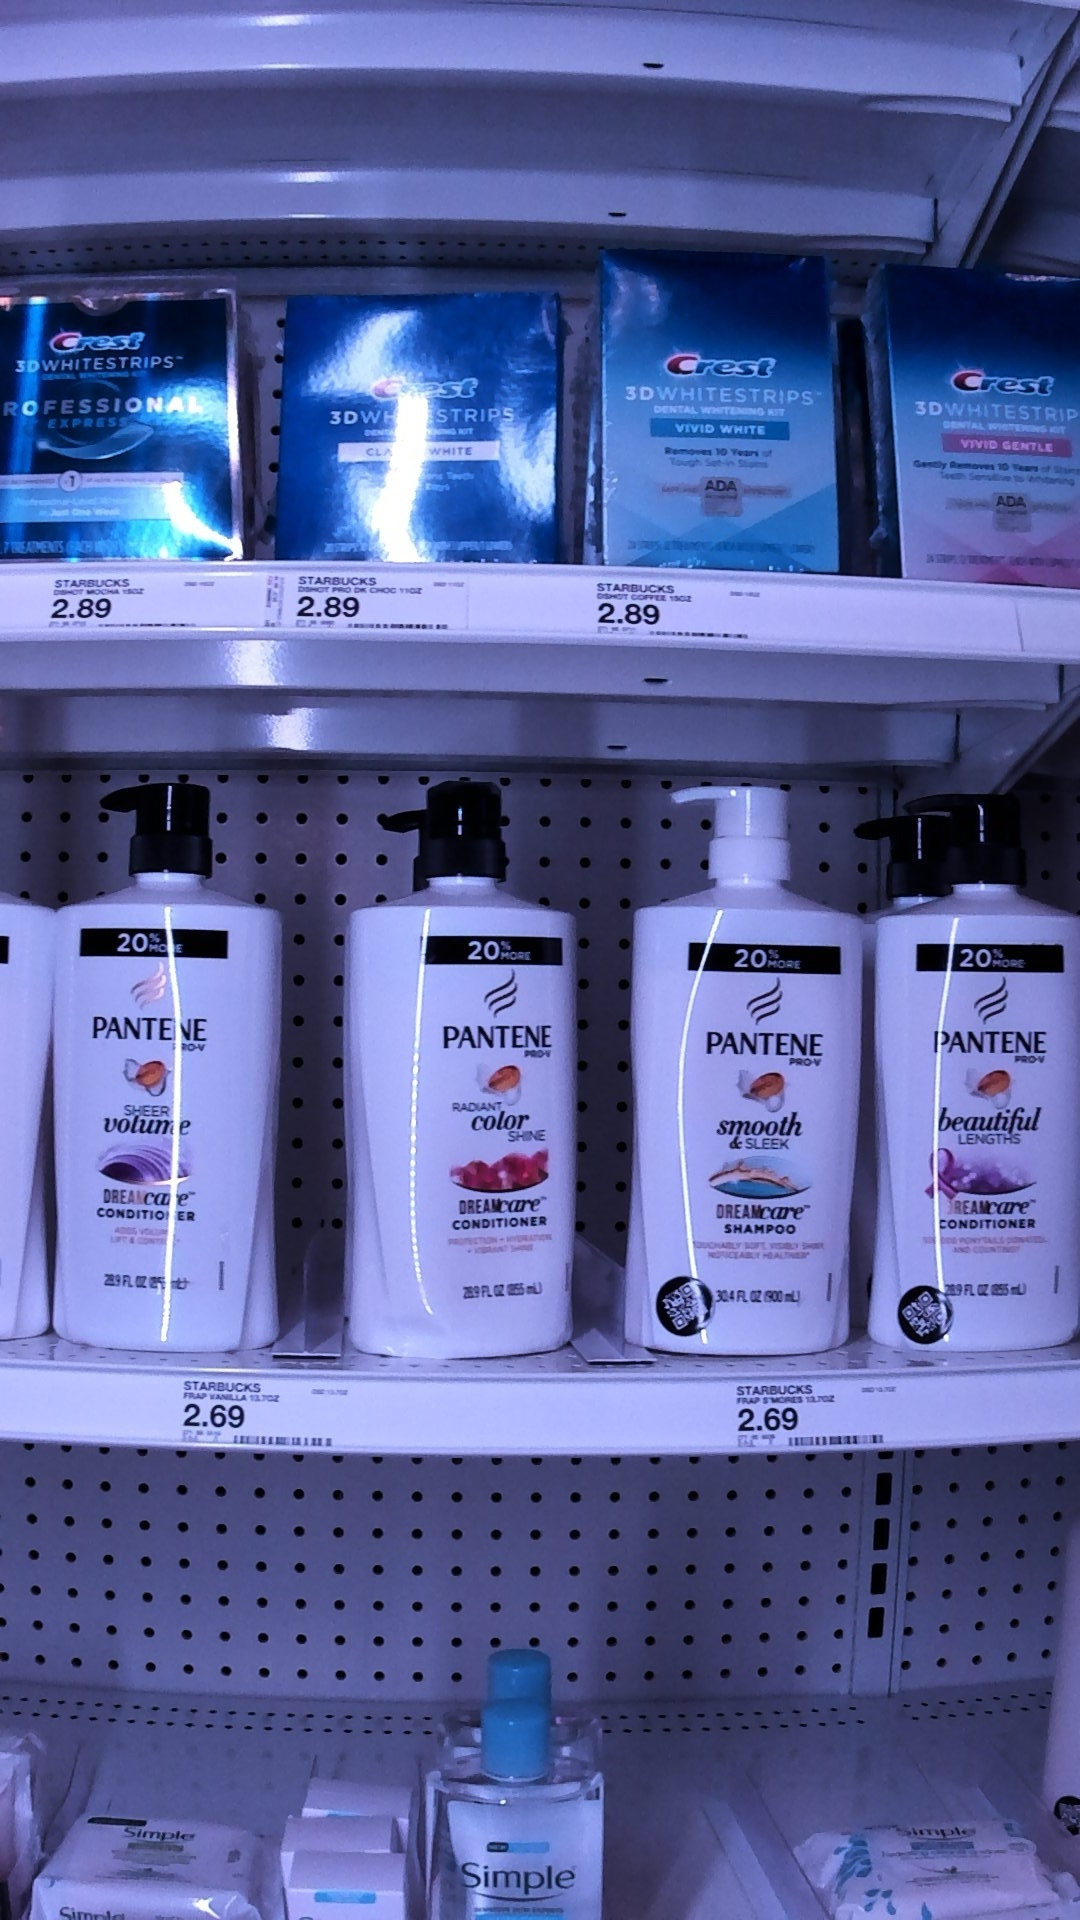ptag: (272, 556, 465, 640), (582, 560, 758, 651), (179, 1369, 351, 1457), (44, 562, 218, 642), (733, 1375, 906, 1453)
